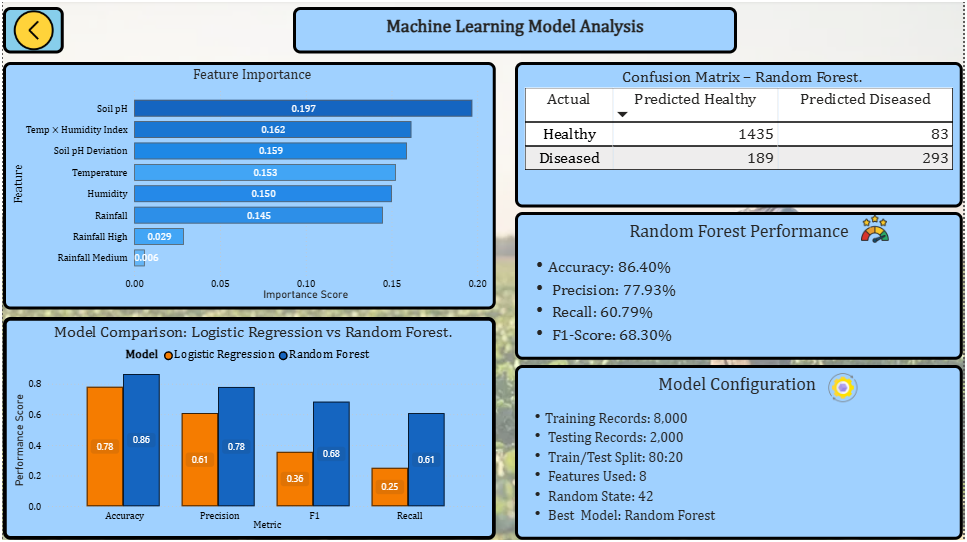

This screenshot's page, from the dashboard's own definition file:
{"tool":"powerbi","page":{"name":"ml","canvas":[1280,720],"ordinal":2},"visuals":[{"type":"textbox","box":[386.8,9.6,591.8,61.9],"z":0},{"type":"clusteredBarChart","title":"Feature Importance ","fields":{"Category":["Feature Importance.Feature"],"Y":["Sum(Feature Importance.Importance)"]},"box":[0,82.6,656.5,330.3],"z":1000},{"type":"image","box":[0,9.6,81.2,61.9],"z":2000},{"type":"clusteredColumnChart","title":"Model Comparison: Logistic Regression vs Random Forest.","fields":{"Category":["Model Comparison.Metric"],"Y":["Sum(Model Comparison.Value)"],"Series":["Model Comparison.Model"]},"box":[0,422.5,656.5,297.3],"z":3000},{"type":"tableEx","title":"Confusion Matrix – Random Forest.","fields":{"Values":["Confusion Matrix.Actual","Sum(Confusion Matrix.Predicted Healthy)","Sum(Confusion Matrix.Predicted Diseased)"]},"box":[682.7,82.6,597.3,194.1],"z":4000},{"type":"textbox","box":[682.7,282.2,597.3,196.8],"z":5000},{"type":"textbox","box":[682.7,487.2,597.3,232.6],"z":6000},{"type":"image","box":[1135.5,286.3,53.7,37.2],"z":6001},{"type":"image","box":[1061.2,496.9,117,38.5],"z":6002}]}

Visuals, with their boxes in screenshot pixels (x1, y1, x2, y2), scaled from the page's 1280x720 canvas onto the 967x542 screenshot:
textbox: (292, 7, 739, 54)
"Feature Importance " clusteredBarChart: (0, 62, 496, 311)
image: (0, 7, 61, 54)
"Model Comparison: Logistic Regression vs Random Forest." clusteredColumnChart: (0, 318, 496, 541)
"Confusion Matrix – Random Forest." tableEx: (516, 62, 966, 208)
textbox: (516, 212, 966, 361)
textbox: (516, 367, 966, 541)
image: (858, 216, 898, 244)
image: (802, 374, 890, 403)
